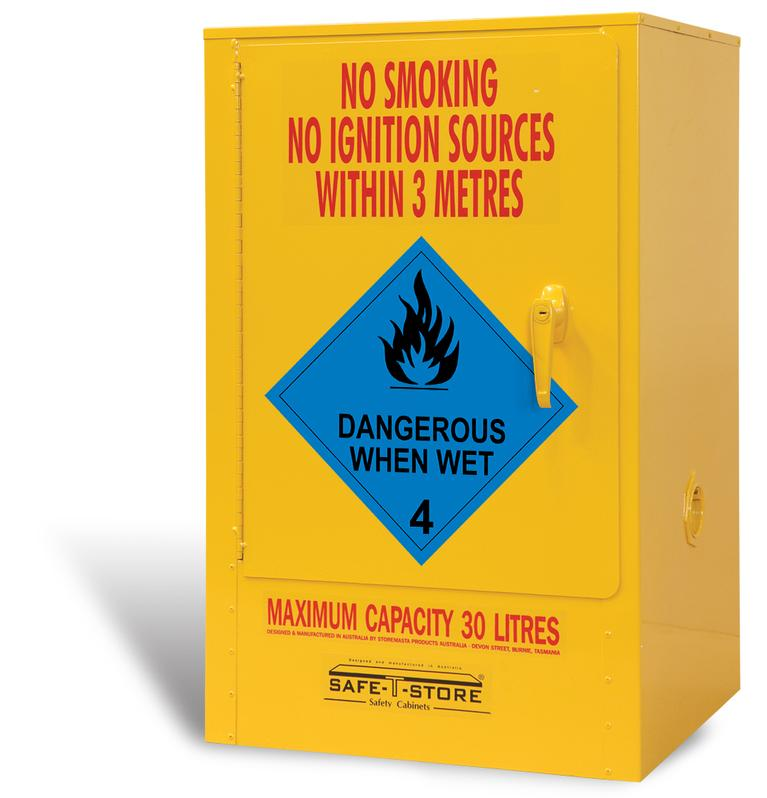Dangerous when wet: (263, 236, 577, 566)
